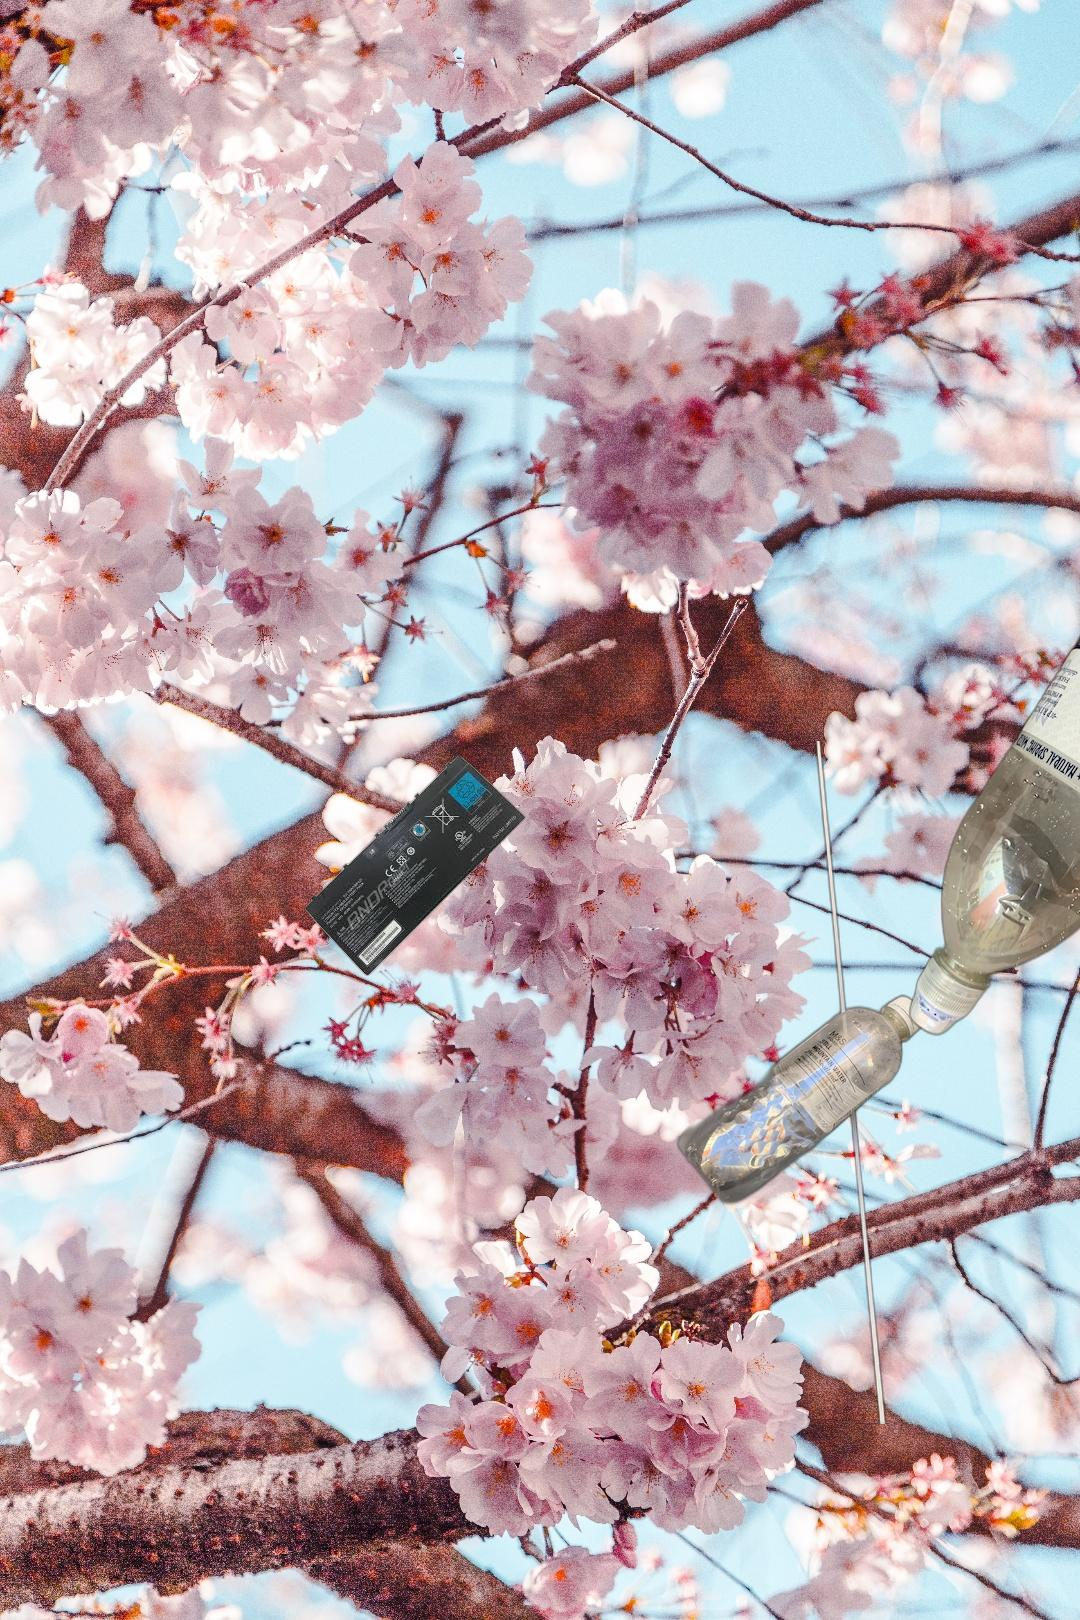battery: (303, 753, 528, 978)
plastic-bottles: (673, 741, 929, 1424), (906, 554, 1080, 1040)
